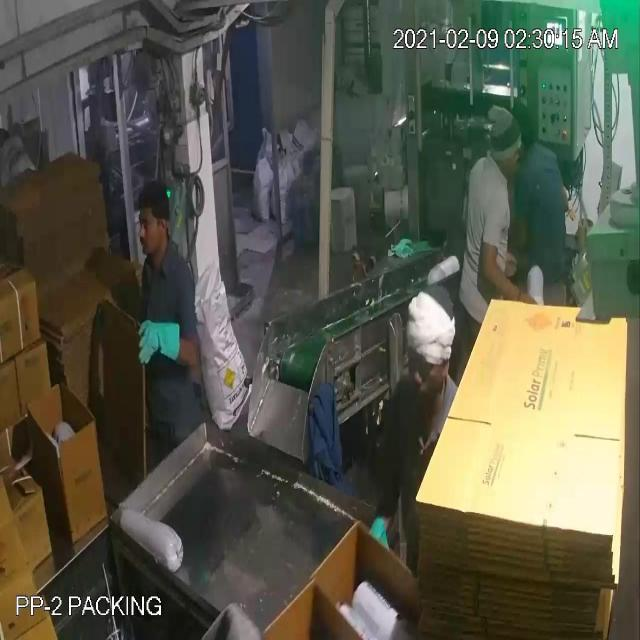Gloves: (50, 72, 508, 344)
